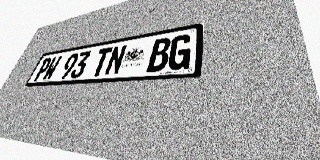3: (69, 50, 92, 78)
9: (58, 52, 80, 79)
B: (146, 37, 172, 72)
G: (167, 33, 192, 71)
N: (103, 44, 128, 76)
P: (32, 57, 53, 81)
T: (90, 47, 113, 77)
W: (41, 55, 62, 81)
